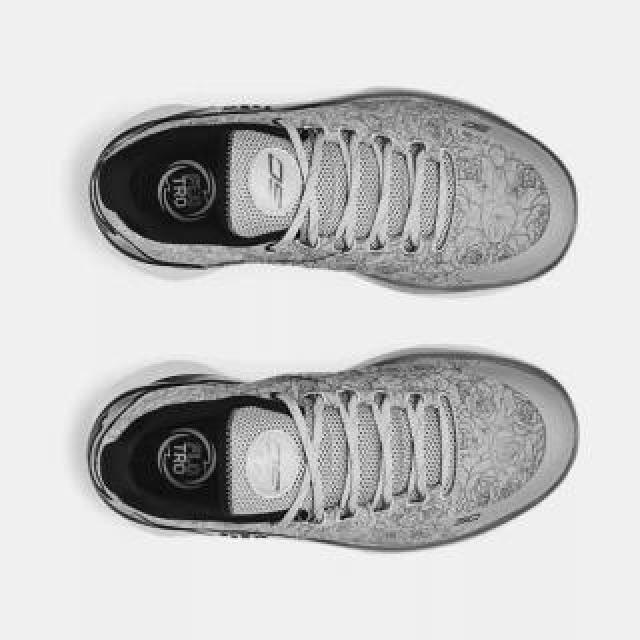shoes: (77, 78, 581, 306), (74, 342, 580, 558)
